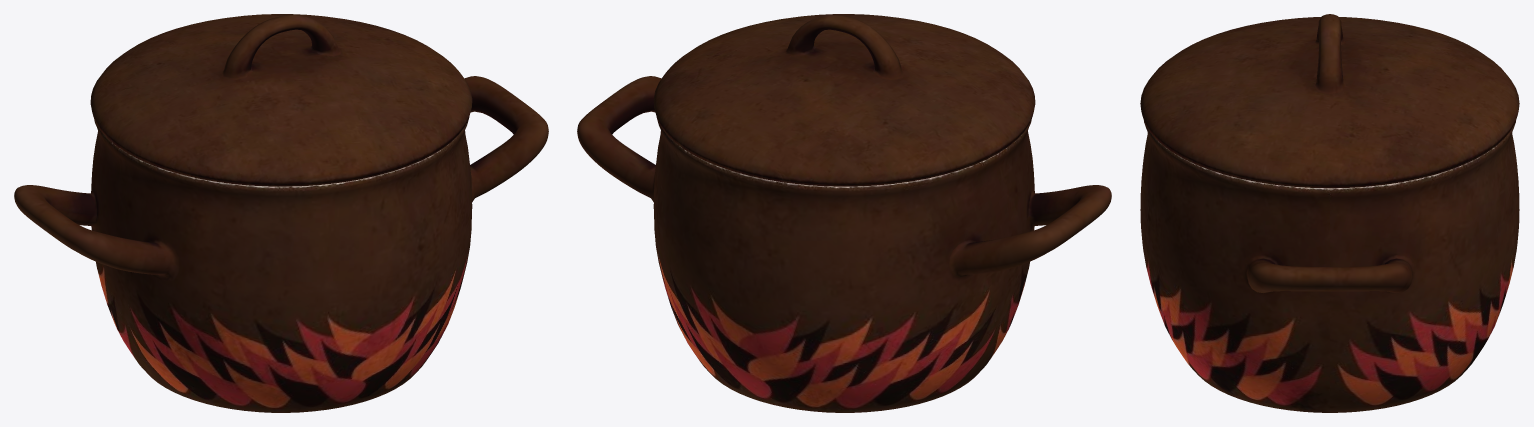
File: pot_enamel_01.glb
3 views of the same model, side by side, from view 1: azimuth 30°, elevation 25°; view 2: azimuth 150°, elevation 25°; view 3: azimuth 270°, elevation 25° (orthographic).
Parts seen in each view (by area): view 1: pot_enamel_01_base, pot_enamel_01_lid; view 2: pot_enamel_01_base, pot_enamel_01_lid; view 3: pot_enamel_01_base, pot_enamel_01_lid.
Boxes of the visible parts, <box> form: pot_enamel_01_base: <box>14,76,548,412</box>; pot_enamel_01_lid: <box>90,14,472,186</box>; pot_enamel_01_base: <box>577,76,1111,412</box>; pot_enamel_01_lid: <box>653,14,1035,186</box>; pot_enamel_01_base: <box>1140,121,1519,412</box>; pot_enamel_01_lid: <box>1140,14,1519,188</box>.
Bounding box in the file's own units: 0.2629 × 0.1783 × 0.1805.
Materials: 1 (1 with a texture image).
